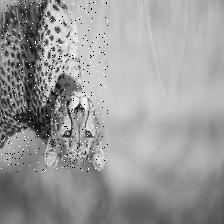Cheetha: (0, 1, 108, 172)
